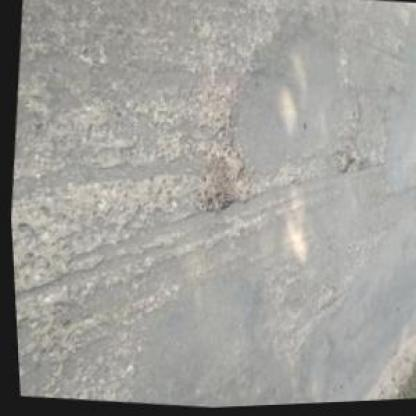pothole: (188, 137, 250, 219), (328, 150, 353, 177)
